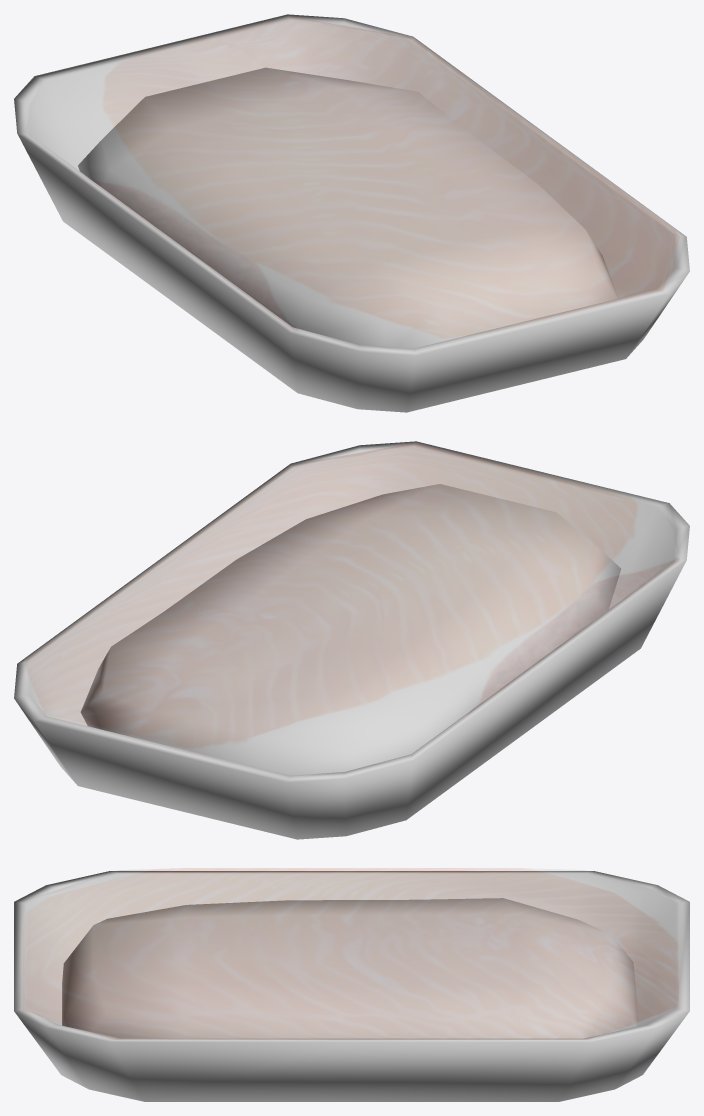
Rendered from SMGP_MOD_Minced_meat.fbx.
3 renders of one model, top to bottom at view 1: azimuth 30°, elevation 25°; view 2: azimuth 150°, elevation 25°; view 3: azimuth 270°, elevation 25°, orthographic. The views are drawn at different scales.
Parts seen in each view (by area): view 1: UAS_SMHP_minced_meat_001; view 2: UAS_SMHP_minced_meat_001; view 3: UAS_SMHP_minced_meat_001.
Part boxes in pixels (bbox=[...]): UAS_SMHP_minced_meat_001: bbox=[14, 14, 689, 412]; UAS_SMHP_minced_meat_001: bbox=[14, 441, 689, 839]; UAS_SMHP_minced_meat_001: bbox=[14, 868, 689, 1101].
Size of the model in its own units: 0.4954 by 0.1534 by 0.8272.
